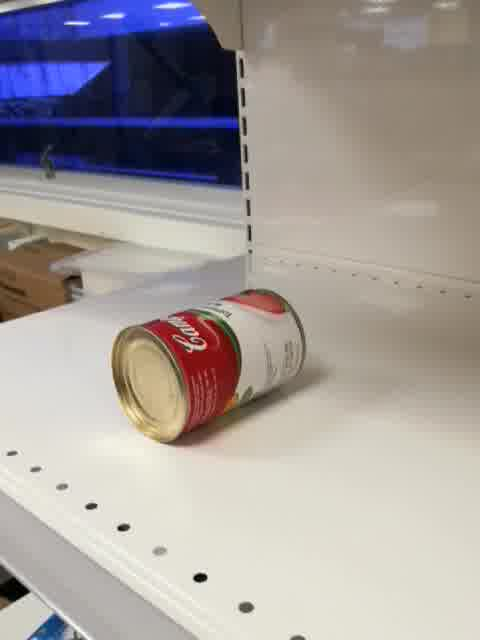tomatosoup: (109, 286, 310, 446)
